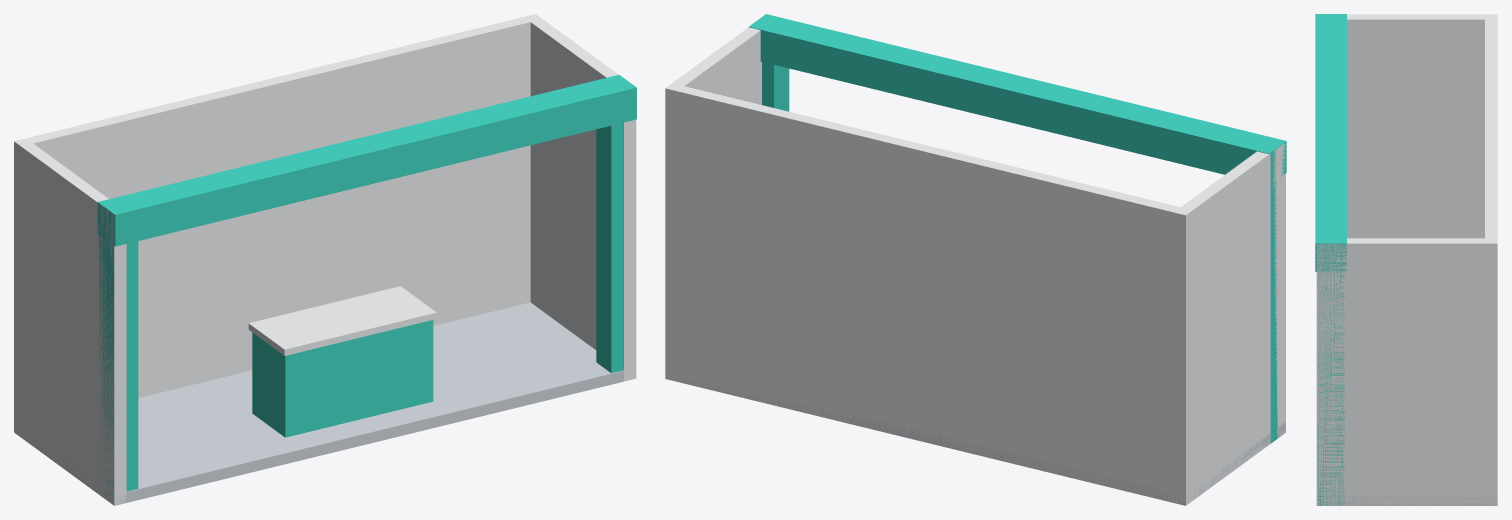
3 views of the same model, side by side, from view 1: azimuth 30°, elevation 25°; view 2: azimuth 150°, elevation 25°; view 3: azimuth 270°, elevation 25° (orthographic). The views are drawn at different scales.
Visible parts, largest first — view 1: Exhibition Booth Concept; view 2: Exhibition Booth Concept; view 3: Exhibition Booth Concept.
Boxes of the visible parts, left/top/right/bottom form: Exhibition Booth Concept: left=14, top=14, right=636, bottom=505; Exhibition Booth Concept: left=665, top=14, right=1286, bottom=505; Exhibition Booth Concept: left=1315, top=14, right=1497, bottom=505.
Size of the model in its own units: 6 by 3.2 by 2.01.
